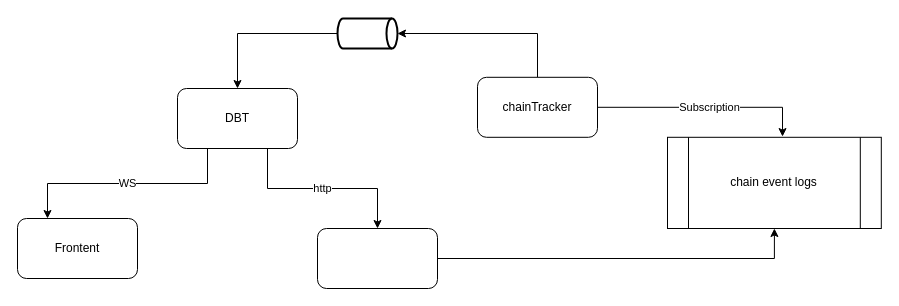
This 899x306 diagram has some shape labels left out. Each missing label, with the centre of its shape:
chainPublisher: pixel 377 258
kafka: pixel 367 33
